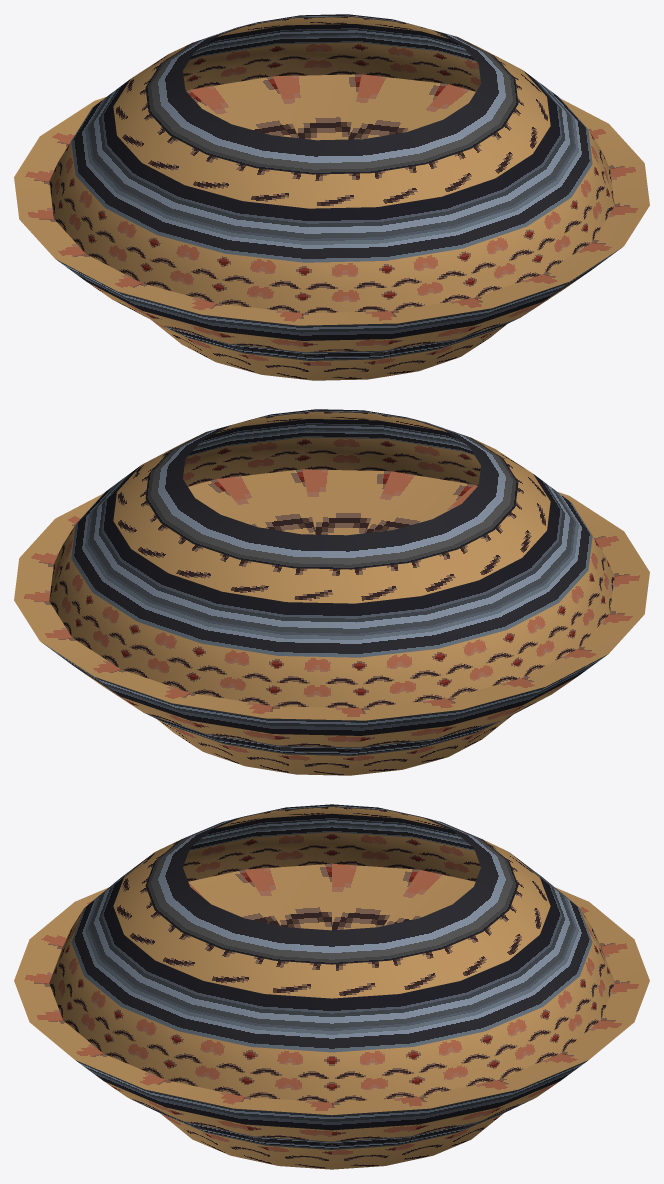
The picture shows the model from 3 angles, top to bottom: view 1: azimuth 30°, elevation 25°; view 2: azimuth 150°, elevation 25°; view 3: azimuth 270°, elevation 25°; orthographic projection.
Visible parts, largest first — view 1: uma053; view 2: uma053; view 3: uma053.
Boxes of the visible parts, <box> form: uma053: <box>14,14,649,380</box>; uma053: <box>14,409,649,775</box>; uma053: <box>14,804,649,1169</box>.
Bounding box in the file's own units: 10.99 × 4.37 × 10.99.
Materials: 3 (3 with a texture image).
